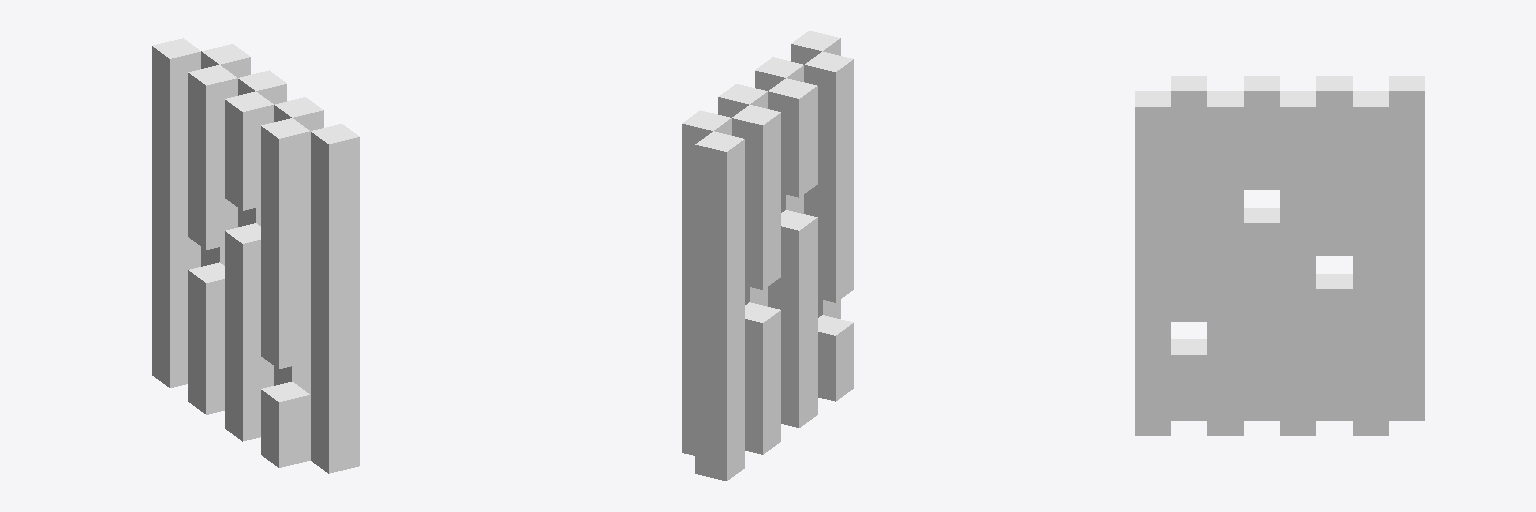
Rendered from SH_Enviorment-16-Sheet_MetalB.obj.
The picture shows the model from 3 angles: view 1: azimuth 30°, elevation 25°; view 2: azimuth 150°, elevation 25°; view 3: azimuth 270°, elevation 25°; orthographic projection.
Parts seen in each view (by area): view 1: Sheet_MetalB; view 2: Sheet_MetalB; view 3: Sheet_MetalB.
Boxes of the visible parts, x1,y1,x2,y2 form: Sheet_MetalB: [152, 38, 359, 473]; Sheet_MetalB: [682, 31, 853, 480]; Sheet_MetalB: [1135, 76, 1424, 435].
Size of the model in its own units: 0.2 by 1 by 0.8.